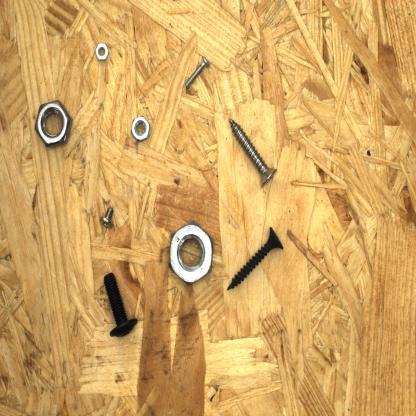screw: (224, 223, 287, 296), (226, 112, 279, 192), (101, 270, 142, 342), (184, 52, 212, 92), (98, 203, 116, 231)
